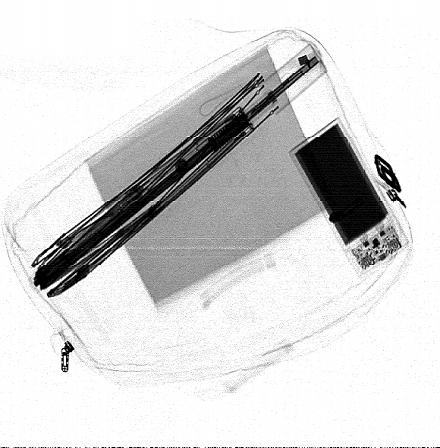Powerbank: (288, 116, 408, 278)
